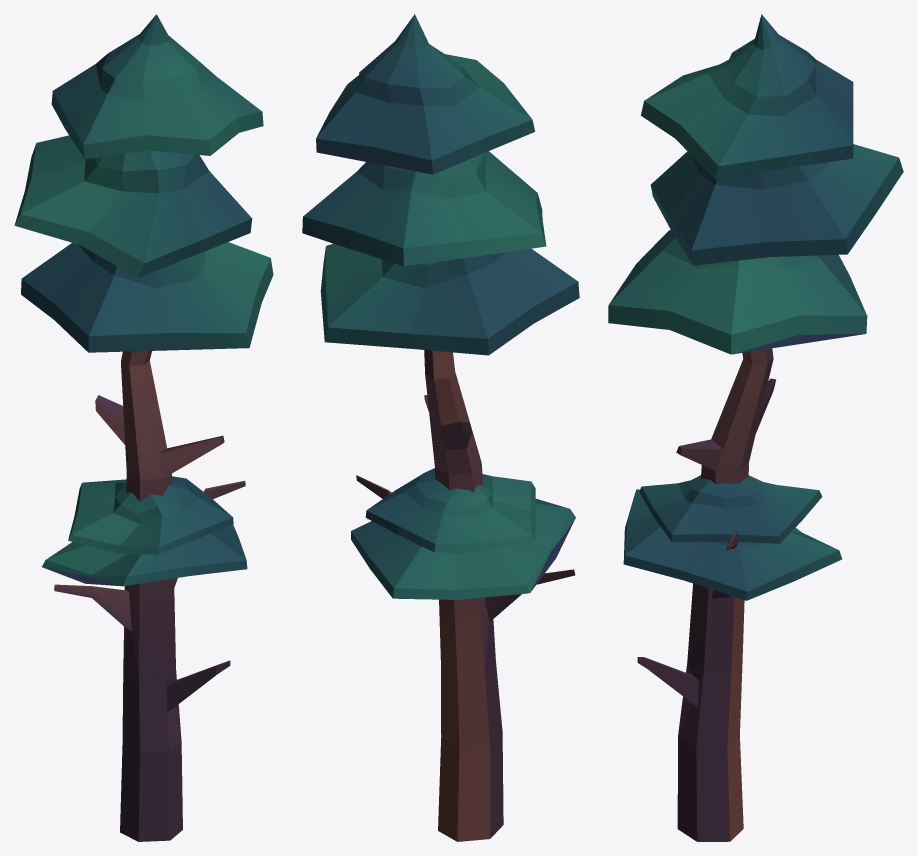
File: Tree_Pine02.fbx
The picture shows the model from 3 angles, left to right: view 1: azimuth 30°, elevation 25°; view 2: azimuth 150°, elevation 25°; view 3: azimuth 270°, elevation 25°; orthographic projection. The views are drawn at different scales.
Visible parts, largest first — view 1: TolTreeTrunk2; view 2: TolTreeTrunk2; view 3: TolTreeTrunk2.
Boxes of the visible parts, x1,y1,x2,y2 form: TolTreeTrunk2: [14, 14, 273, 841]; TolTreeTrunk2: [302, 14, 579, 841]; TolTreeTrunk2: [608, 14, 903, 841].
Bounding box in the file's own units: 173 × 553 × 178.
